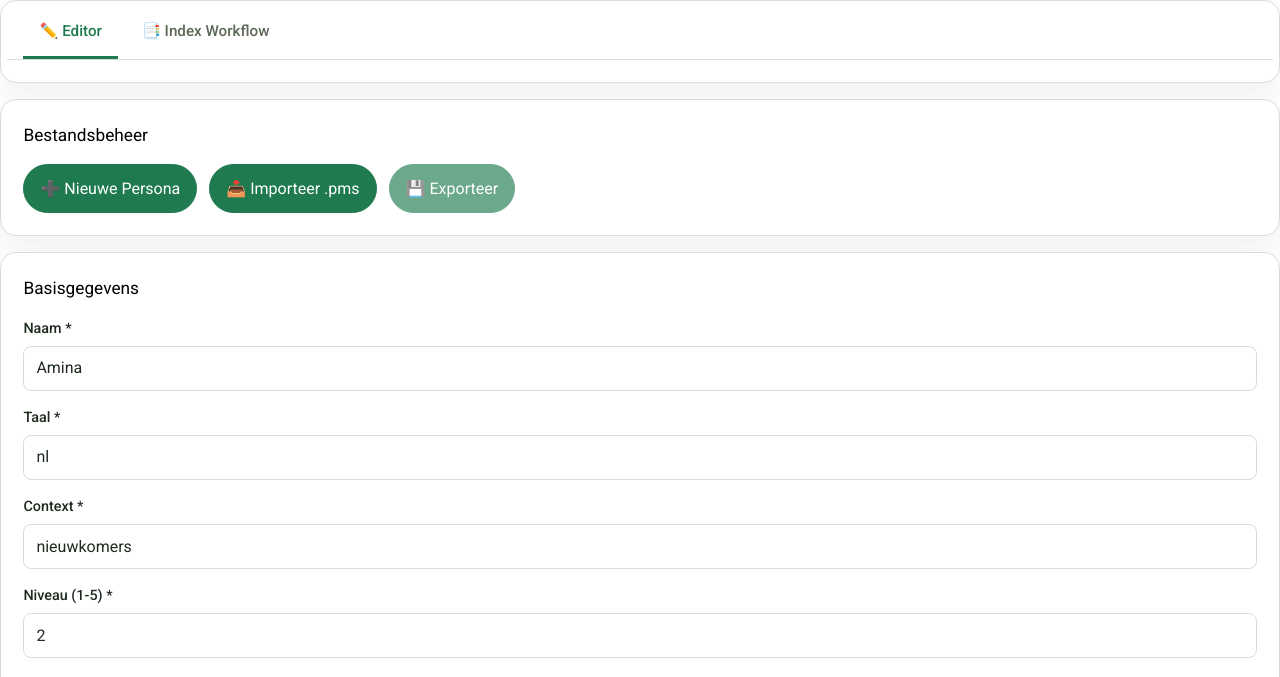
Test case: DeveloperMode dirty state › toont waarschuwing bij nieuwe persona met onopgeslagen wijzigingen
Clear the field labelled "Naam *" at [640, 368], box [23,346,1257,391]
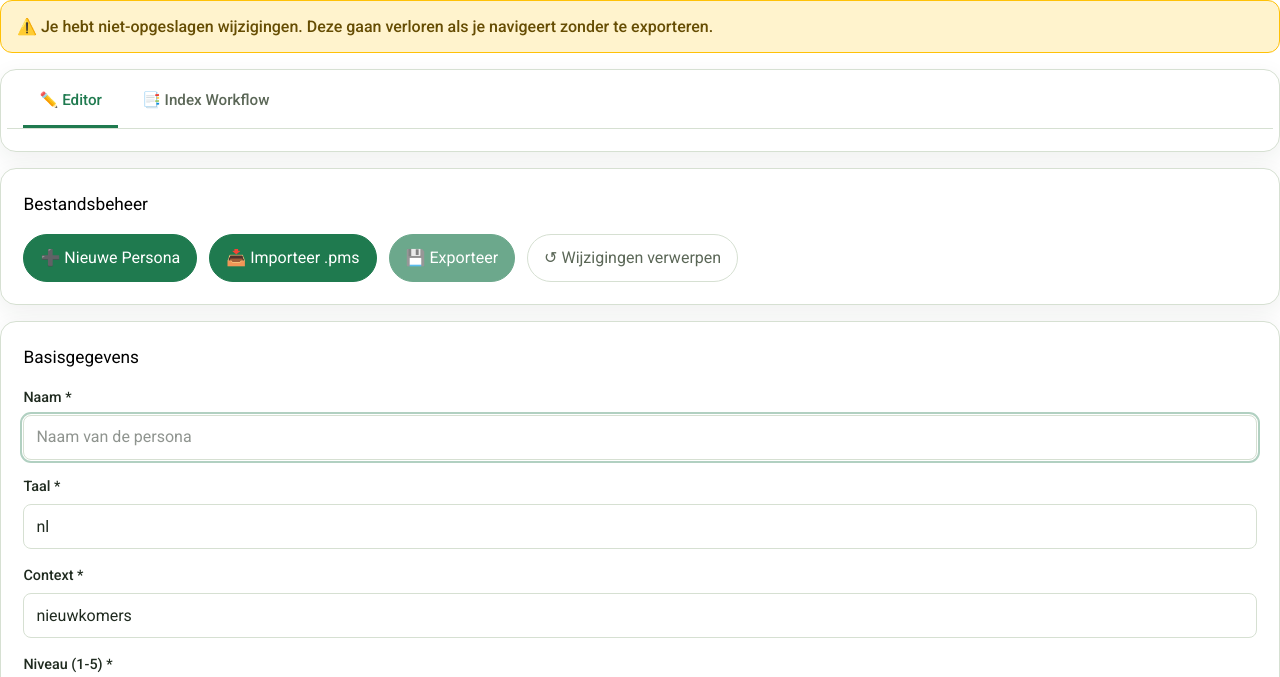
Type "Amina Nieuw" into the field labelled "Naam *".
click(640, 437); type("Amina Nieuw")  # box [23,415,1257,460]
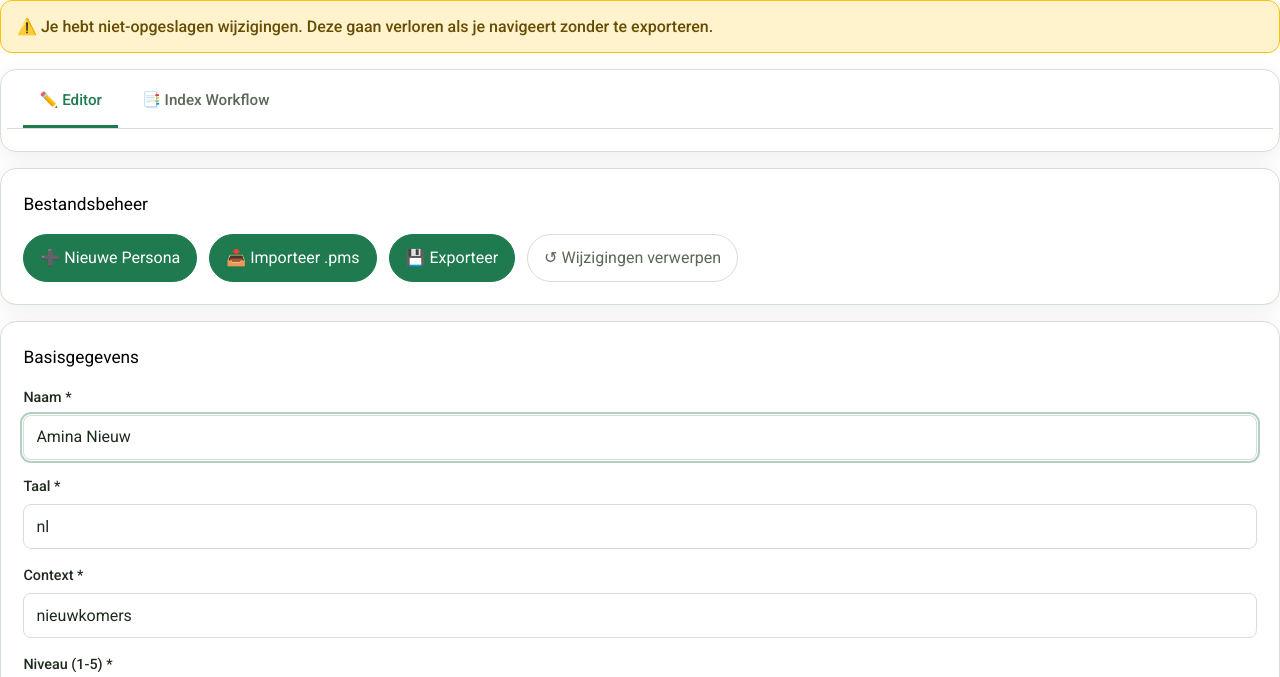
Click the button "➕ Nieuwe Persona".
click(110, 258)  # box [23,234,197,282]
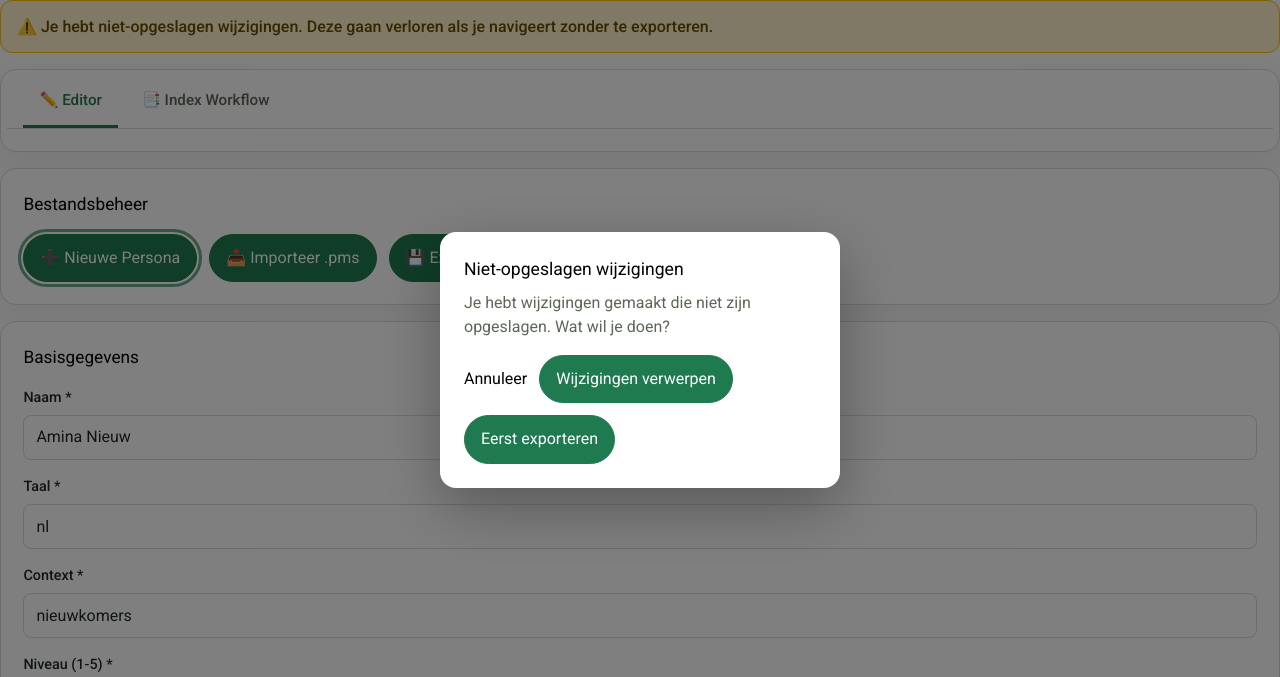
expect the heading "Niet-opgeslagen wijzigingen" is shown: met, box [464,259,684,279]
